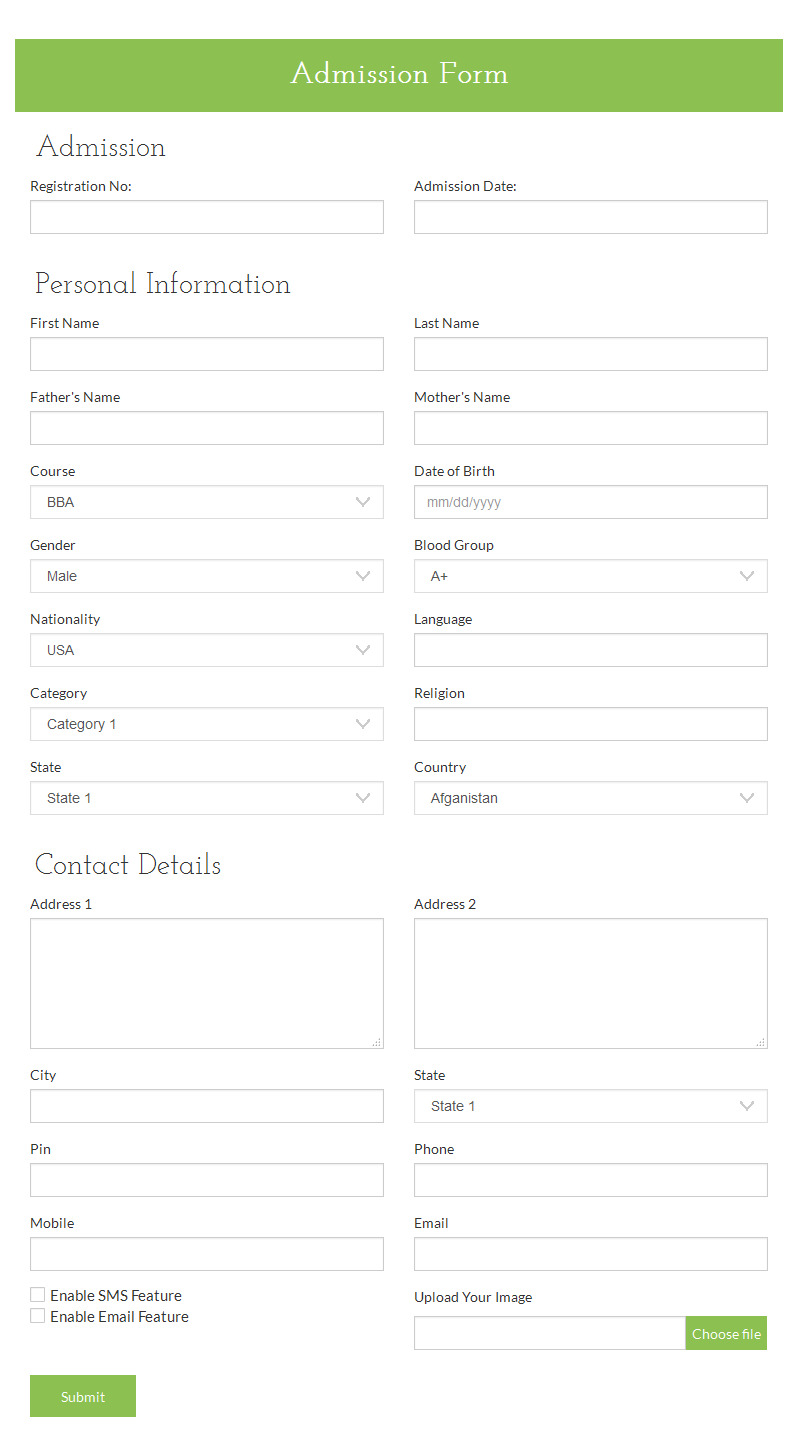_form_: (382, 963, 798, 1379), (382, 591, 798, 1007), (382, 188, 798, 604), (1, 113, 416, 529), (1, 530, 416, 946), (1, 892, 416, 1308)
button: (28, 1372, 140, 1420), (687, 1314, 767, 1351)
checkbox: (27, 1306, 48, 1326), (28, 1283, 46, 1305)
field: (409, 915, 769, 1051), (27, 915, 386, 1051), (413, 1141, 770, 1199), (28, 195, 386, 236), (409, 482, 769, 522), (29, 1087, 386, 1127), (409, 630, 769, 669), (410, 409, 769, 448), (410, 705, 769, 744), (411, 197, 769, 236), (27, 409, 385, 448), (27, 1161, 385, 1200), (407, 334, 769, 372), (29, 336, 385, 374), (411, 1238, 771, 1274), (26, 1237, 387, 1272), (412, 1315, 688, 1352)
select: (28, 484, 385, 521), (412, 559, 769, 596), (27, 558, 384, 595), (28, 631, 385, 668), (28, 706, 385, 743), (30, 780, 387, 817), (413, 1088, 770, 1125), (412, 780, 769, 817)
